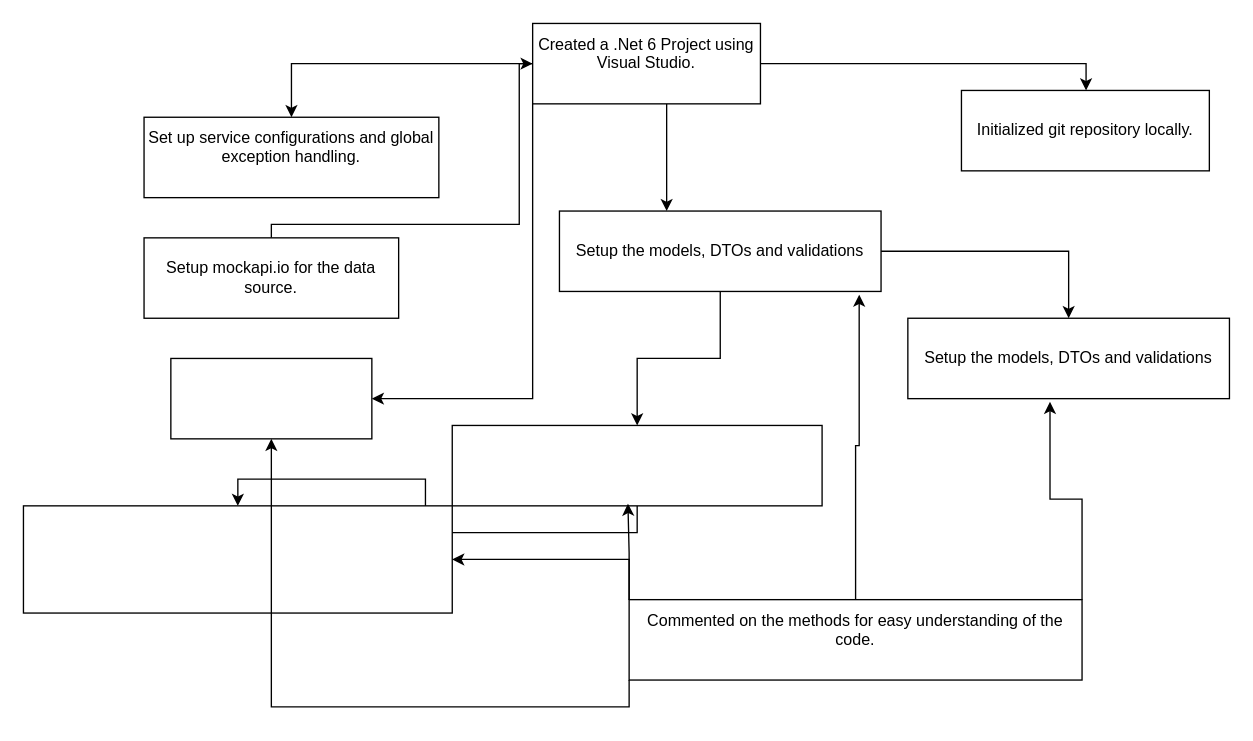
This 1253x741 diagram has some shape labels left out. Here are the shapes that lost their labels. From the top down, the centre of each, then its label:
the point at 271,398: Configured the connection configuration in the appsetting.json
the point at 636,465: Implemented the services.
the point at 237,559: Implemented the actions methods in the controller.
